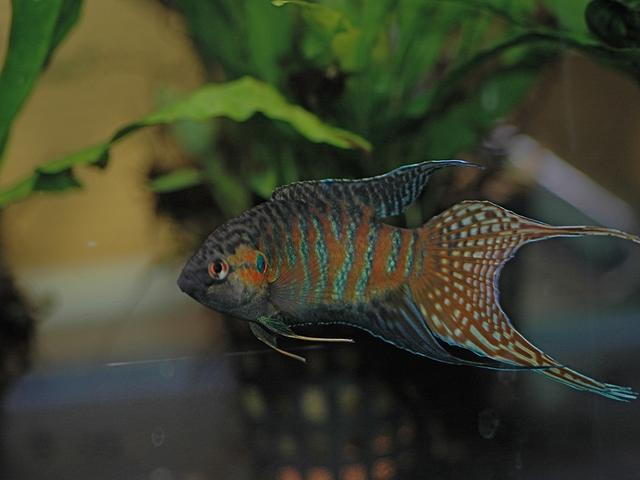fish: (135, 146, 629, 410)
